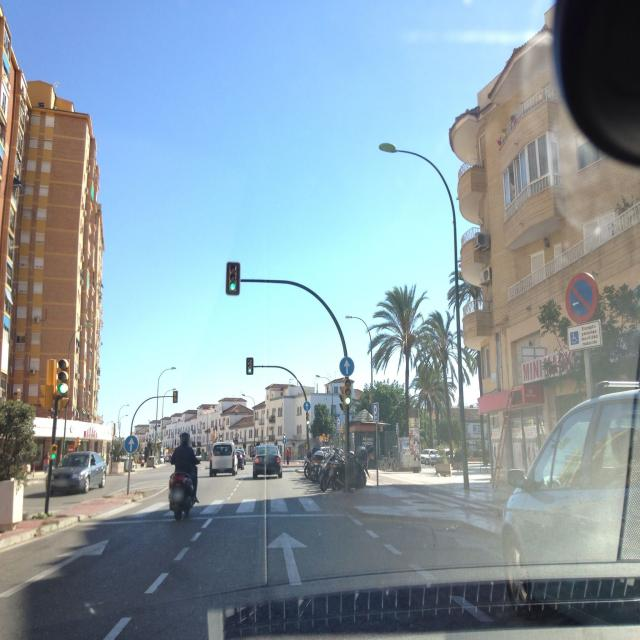forb_stopping: (563, 270, 600, 326)
